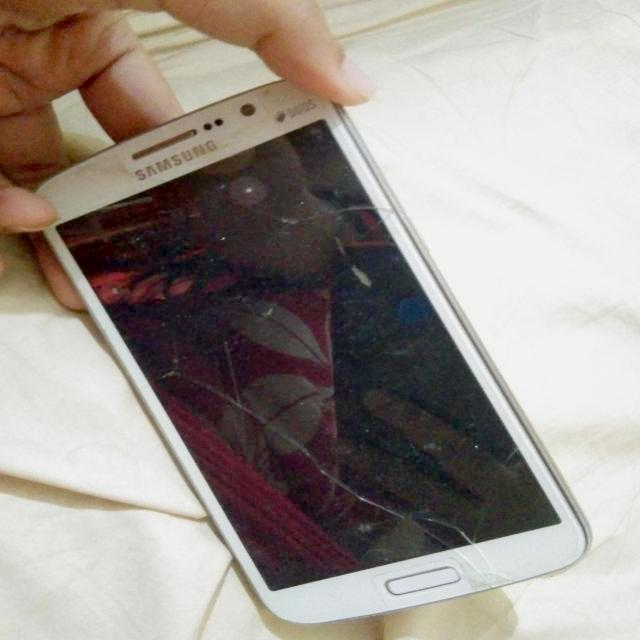phone: (9, 85, 626, 622)
